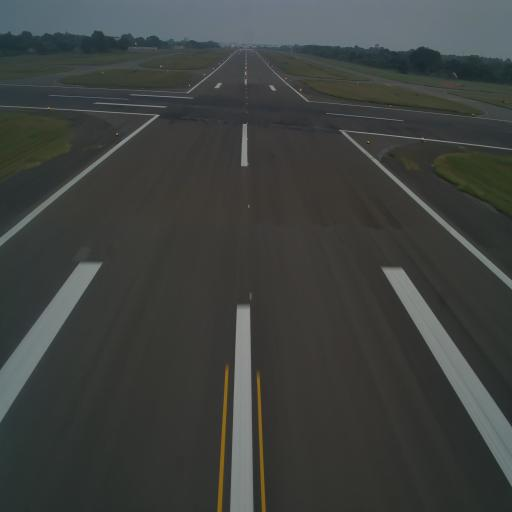on: (246, 286, 255, 304), (115, 128, 120, 138), (365, 137, 371, 145), (247, 200, 251, 210), (246, 160, 250, 168), (246, 136, 250, 142), (246, 120, 250, 126), (246, 108, 250, 114)
